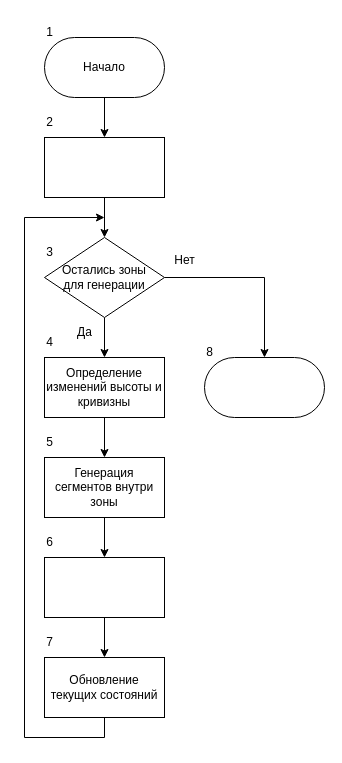
The diagram is 342 pixels wide and 763 high, and some of its shapes have lost their labels. The centre of each missing label's shape, as x and y in pixels:
"Добавление сегментов в массив дороги" belongs at (104,587).
"Инициализация переменных" belongs at (104,167).
"Конец" belongs at (264,387).
